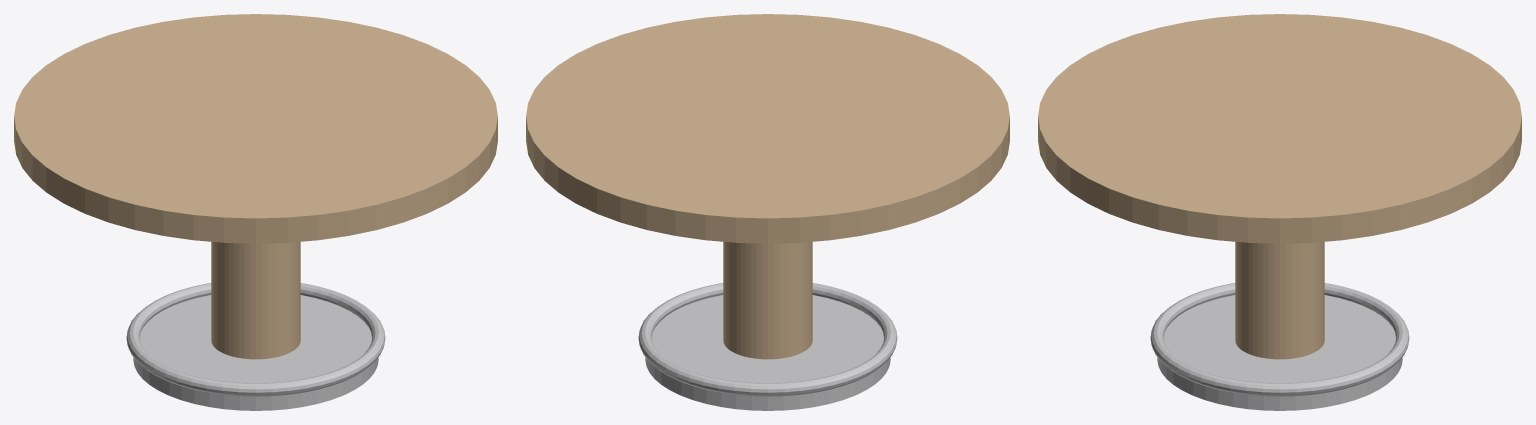
Rendered from round_dining_table.glb.
3 views of the same model, side by side, from view 1: azimuth 30°, elevation 25°; view 2: azimuth 150°, elevation 25°; view 3: azimuth 270°, elevation 25° (orthographic).
Parts seen in each view (by area): view 1: WOOD_top, METAL_DARK_base, WOOD_DARK_pedestal, METAL_brass_ring; view 2: WOOD_top, METAL_DARK_base, WOOD_DARK_pedestal, METAL_brass_ring; view 3: WOOD_top, METAL_DARK_base, WOOD_DARK_pedestal, METAL_brass_ring.
Part boxes in pixels (box(x1,y1,x2,y2)): WOOD_top: box(14, 14, 497, 243); METAL_DARK_base: box(133, 295, 378, 410); WOOD_DARK_pedestal: box(211, 242, 300, 359); METAL_brass_ring: box(126, 283, 385, 396); WOOD_top: box(526, 14, 1009, 243); METAL_DARK_base: box(645, 295, 890, 410); WOOD_DARK_pedestal: box(723, 242, 812, 359); METAL_brass_ring: box(638, 283, 897, 396); WOOD_top: box(1038, 14, 1521, 243); METAL_DARK_base: box(1157, 295, 1402, 410); WOOD_DARK_pedestal: box(1235, 242, 1324, 359); METAL_brass_ring: box(1150, 283, 1409, 396).
Size of the model in its own units: 1.3 by 0.72 by 1.3.
